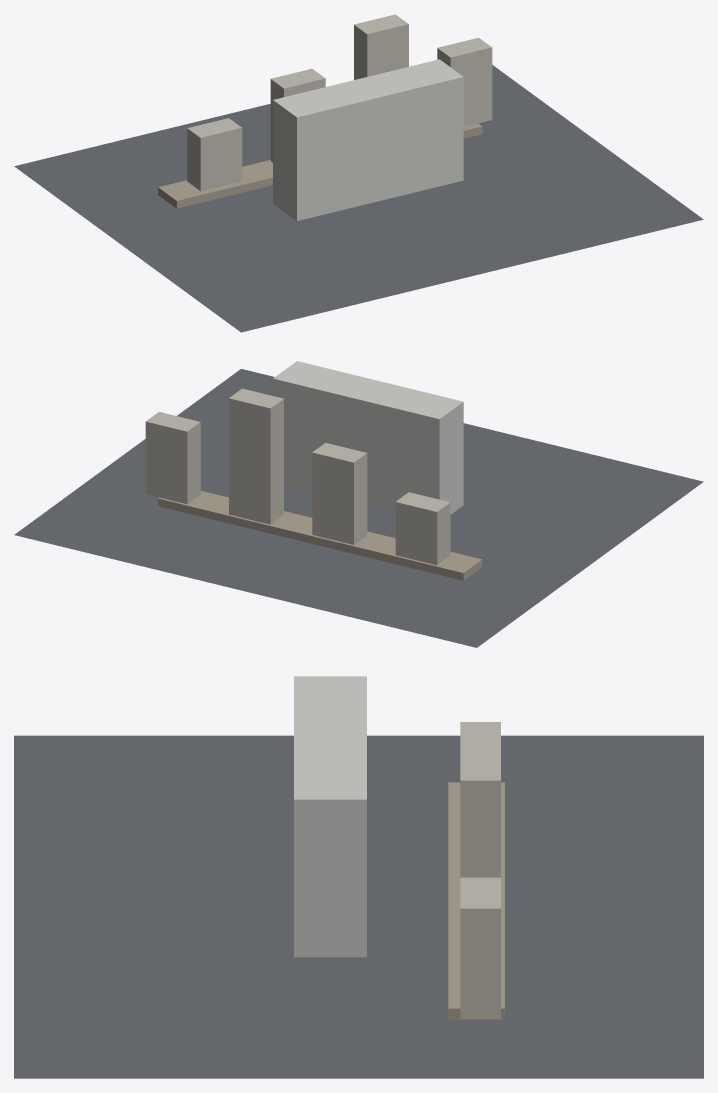
Rendered from world.glb.
3 renders of one model, top to bottom at view 1: azimuth 30°, elevation 25°; view 2: azimuth 150°, elevation 25°; view 3: azimuth 270°, elevation 25°, orthographic. The views are drawn at different scales.
Parts seen in each view (by area): view 1: on_this_day_opaque_mesh; view 2: on_this_day_opaque_mesh; view 3: on_this_day_opaque_mesh.
Part boxes in pixels (x1,y1,x2,y2): on_this_day_opaque_mesh: (14, 14, 703, 332); on_this_day_opaque_mesh: (14, 361, 703, 647); on_this_day_opaque_mesh: (14, 676, 703, 1078).
Size of the model in its own units: 10 by 2.56 by 8.5.
